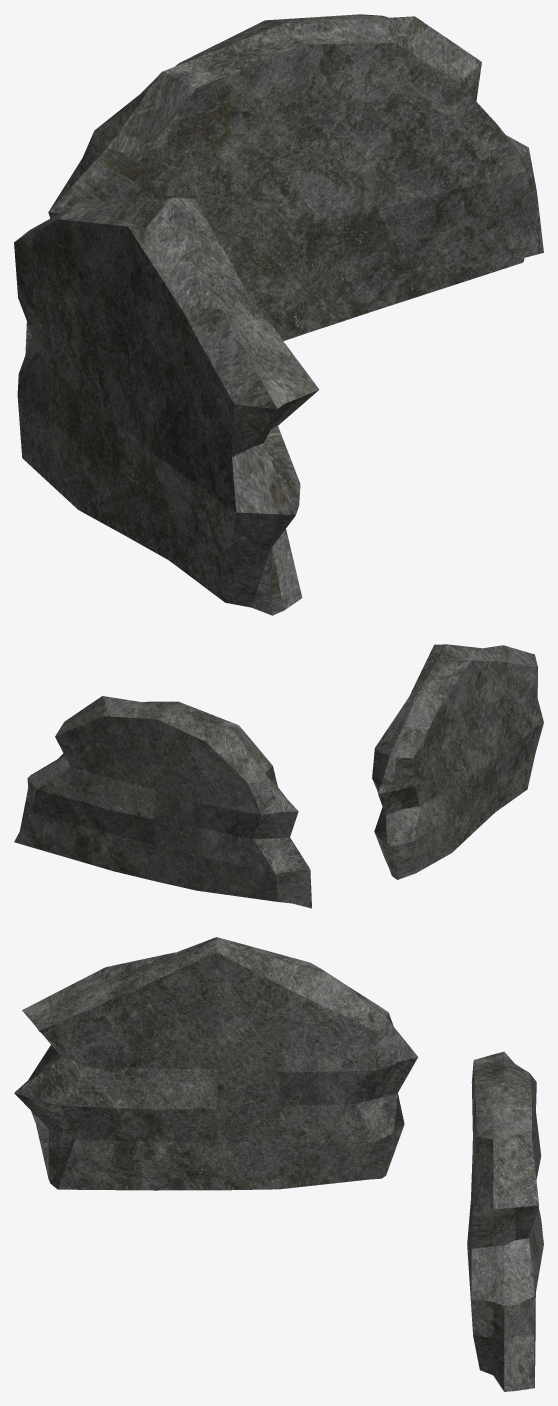
File: paredes_cuadri.fbx
The picture shows the model from 3 angles, top to bottom: view 1: azimuth 30°, elevation 25°; view 2: azimuth 150°, elevation 25°; view 3: azimuth 270°, elevation 25°; orthographic projection. The views are drawn at different scales.
Parts seen in each view (by area): view 1: Cube.028, Cube.035; view 2: Cube.028, Cube.035; view 3: Cube.035, Cube.028.
Part boxes in pixels (box(x1,y1,x2,y2)): Cube.028: box(25, 14, 543, 354); Cube.035: box(14, 197, 319, 615); Cube.028: box(14, 696, 311, 908); Cube.035: box(372, 644, 543, 879); Cube.035: box(14, 937, 417, 1190); Cube.028: box(467, 1051, 543, 1391).
Size of the model in its own units: 2148 by 1147 by 2140.
Materials: 1 (1 with a texture image).
